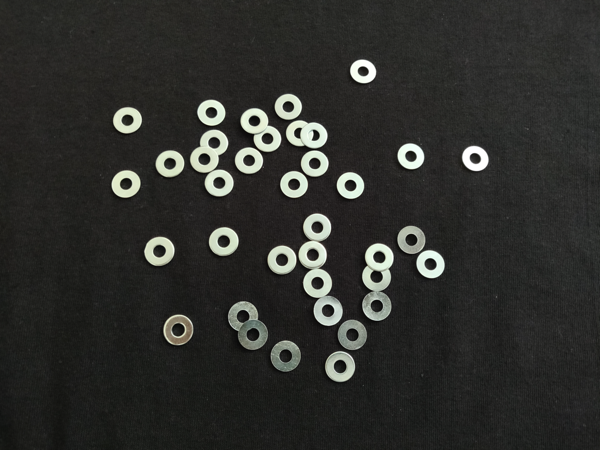circles: (144, 234, 177, 269), (163, 313, 195, 348), (228, 299, 260, 334), (270, 340, 302, 375), (324, 350, 356, 385), (303, 267, 335, 302), (208, 225, 240, 260), (237, 319, 269, 353), (337, 318, 368, 353), (313, 294, 344, 329), (267, 244, 298, 279), (154, 148, 185, 183), (110, 169, 142, 200), (189, 145, 220, 177), (204, 167, 235, 199), (195, 97, 226, 129), (234, 146, 265, 178), (239, 105, 270, 137), (252, 123, 283, 155), (302, 211, 333, 243), (298, 241, 329, 273), (396, 224, 427, 256), (416, 249, 447, 281), (395, 141, 426, 173), (273, 91, 304, 122), (283, 117, 314, 148), (279, 169, 310, 200), (362, 291, 393, 322), (362, 262, 393, 293), (364, 243, 395, 274), (461, 143, 492, 174), (348, 57, 379, 88), (199, 128, 229, 160), (300, 119, 330, 151), (300, 148, 330, 180), (336, 171, 366, 202), (113, 107, 143, 136)
